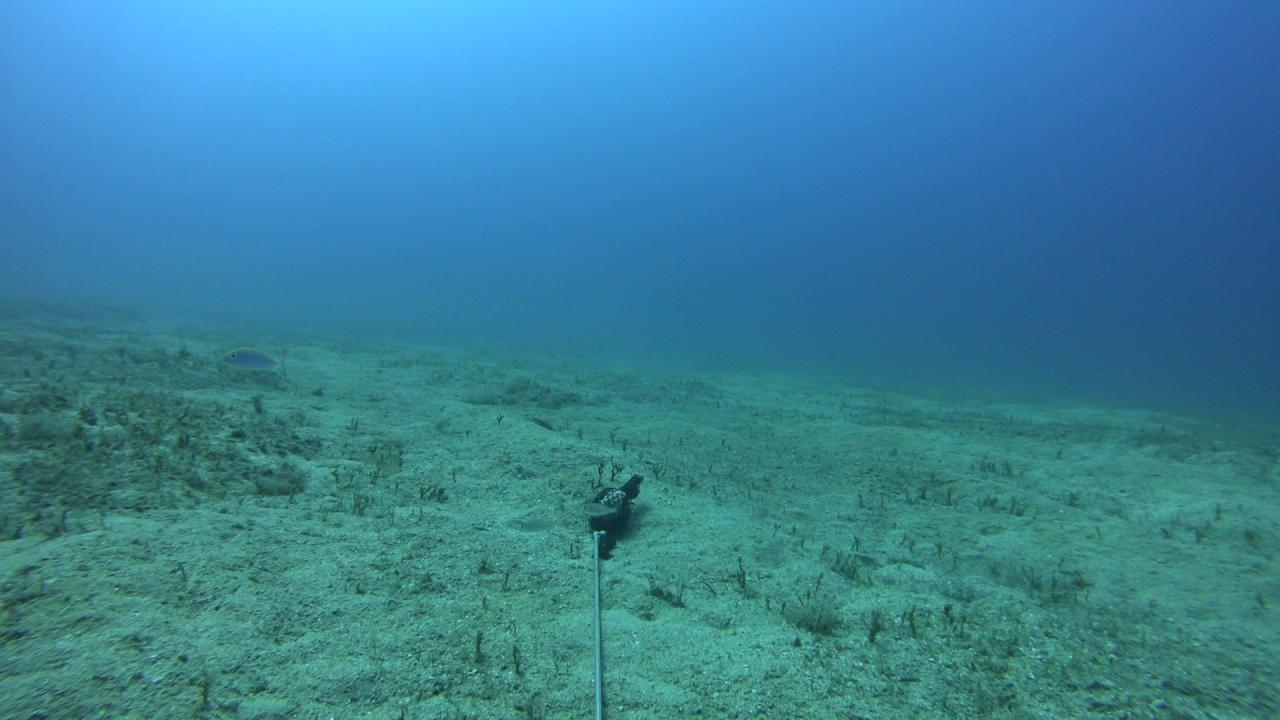pagellus: (219, 346, 287, 376), (516, 516, 562, 532), (578, 500, 618, 517)
